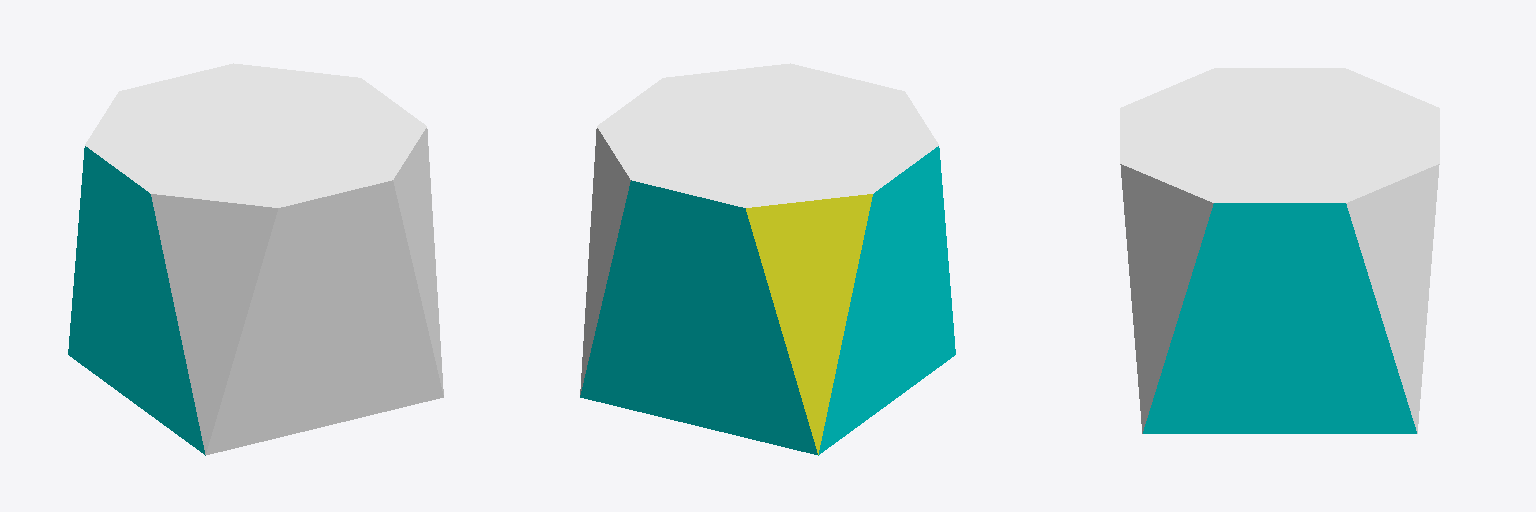
File: piedramalodepapa.obj
The picture shows the model from 3 angles: view 1: azimuth 30°, elevation 25°; view 2: azimuth 150°, elevation 25°; view 3: azimuth 270°, elevation 25°; orthographic projection.
Parts seen in each view (by area): view 1: Mesh1 Model; view 2: Mesh1 Model; view 3: Mesh1 Model.
Boxes of the visible parts, x1,y1,x2,y2 form: Mesh1 Model: [68, 63, 443, 455]; Mesh1 Model: [580, 63, 955, 455]; Mesh1 Model: [1120, 68, 1439, 433].
Bounding box in the file's own units: 2.23 × 1.85 × 2.23.